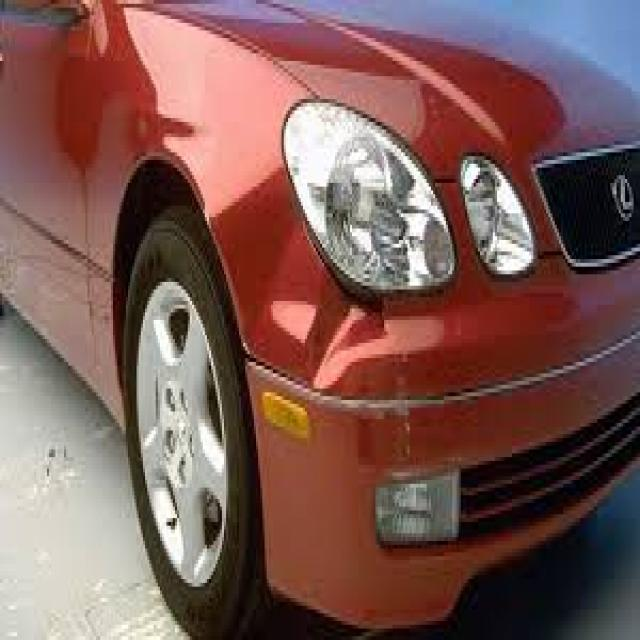minor: (238, 124, 410, 422)
